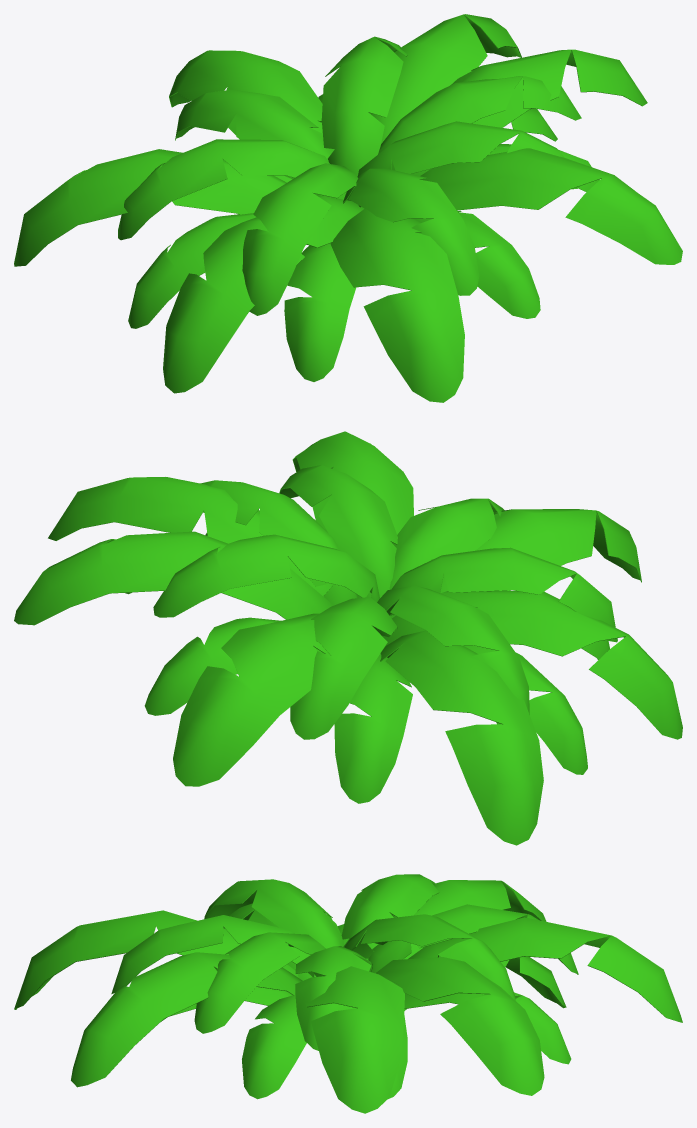
The model's file is coconut_Tree2.FBX.
The picture shows the model from 3 angles, top to bottom: view 1: azimuth 30°, elevation 25°; view 2: azimuth 150°, elevation 25°; view 3: azimuth 270°, elevation 25°; orthographic projection. The views are drawn at different scales.
Visible parts, largest first — view 1: Plane003, Plane002, Plane004, Plane005, Plane017, Plane020, Plane018, Plane007, Plane010, Plane016, Plane006, Plane001 (+6 smaller); view 2: Plane005, Plane006, Plane007, Plane004, Plane001, Plane020, Plane019, Plane012, Plane017, Plane015, Plane003, Plane018 (+5 smaller); view 3: Plane001, Plane007, Plane002, Plane006, Plane003, Plane015, Plane017, Plane020, Plane008, Plane016, Plane018, Plane021 (+7 smaller).
Boxes of the visible parts, bbox=[...] form: Plane003: bbox=[330, 208, 464, 402]; Plane002: bbox=[420, 148, 682, 264]; Plane004: bbox=[163, 196, 364, 393]; Plane005: bbox=[14, 149, 286, 266]; Plane017: bbox=[242, 163, 358, 315]; Plane020: bbox=[321, 36, 407, 176]; Plane018: bbox=[118, 139, 329, 240]; Plane007: bbox=[369, 14, 521, 143]; Plane010: bbox=[284, 243, 356, 381]; Plane016: bbox=[343, 168, 479, 295]; Plane006: bbox=[169, 50, 344, 199]; Plane001: bbox=[411, 49, 647, 175]; Plane005: bbox=[380, 630, 543, 845]; Plane006: bbox=[173, 613, 330, 786]; Plane007: bbox=[14, 531, 333, 625]; Plane004: bbox=[381, 591, 682, 739]; Plane001: bbox=[48, 477, 333, 596]; Plane020: bbox=[153, 534, 379, 617]; Plane019: bbox=[290, 597, 397, 739]; Plane012: bbox=[334, 653, 412, 803]; Plane017: bbox=[390, 547, 617, 642]; Plane015: bbox=[279, 465, 397, 597]; Plane003: bbox=[440, 509, 641, 593]; Plane018: bbox=[377, 585, 529, 724]; Plane001: bbox=[305, 966, 404, 1113]; Plane007: bbox=[375, 957, 544, 1095]; Plane002: bbox=[71, 952, 302, 1087]; Plane006: bbox=[408, 917, 682, 1022]; Plane003: bbox=[14, 910, 298, 1009]; Plane015: bbox=[194, 932, 325, 1033]; Plane017: bbox=[204, 879, 343, 948]; Plane020: bbox=[345, 914, 515, 1000]; Plane008: bbox=[242, 994, 306, 1099]; Plane016: bbox=[111, 915, 315, 994]; Plane018: bbox=[341, 874, 439, 959]; Plane021: bbox=[295, 946, 372, 1050].
Size of the model in its own units: 255 by 86.83 by 279.
